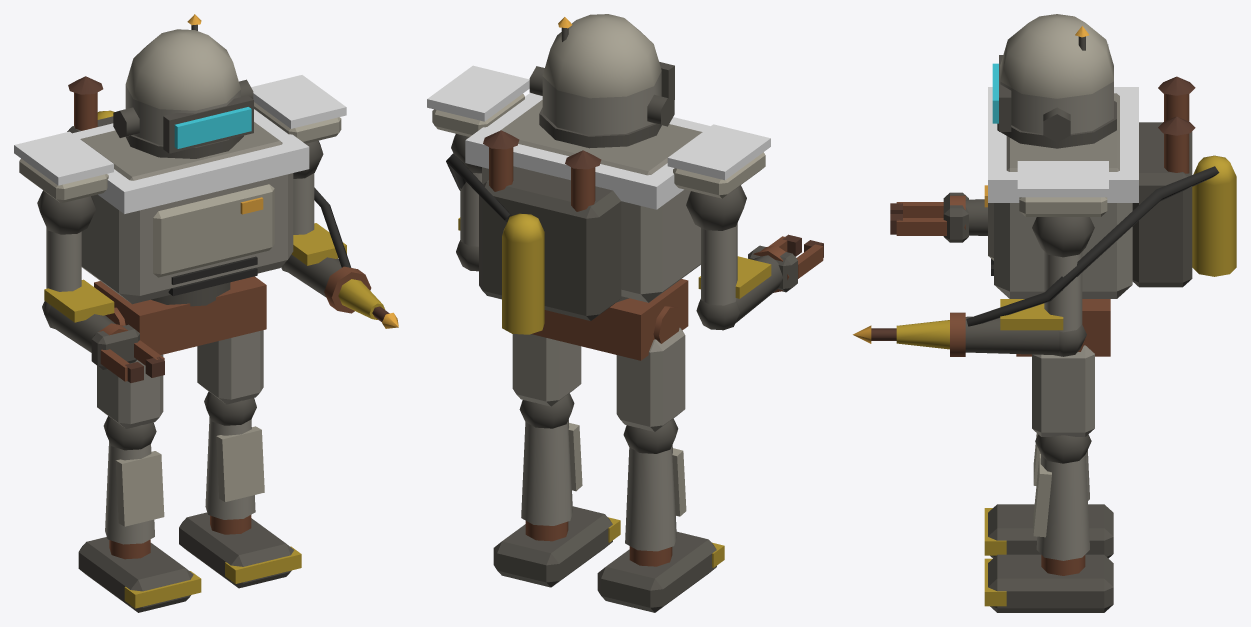
The picture shows the model from 3 angles, left to right: view 1: azimuth 30°, elevation 25°; view 2: azimuth 150°, elevation 25°; view 3: azimuth 270°, elevation 25°; orthographic projection. The views are drawn at different scales.
Parts seen in each view (by area): view 1: dweller_robot_builder; view 2: dweller_robot_builder; view 3: dweller_robot_builder.
Part boxes in pixels (bbox=[...]): dweller_robot_builder: bbox=[14, 14, 398, 612]; dweller_robot_builder: bbox=[427, 14, 823, 612]; dweller_robot_builder: bbox=[853, 14, 1236, 612].
Size of the model in its own units: 1.09 by 1.97 by 1.22.
